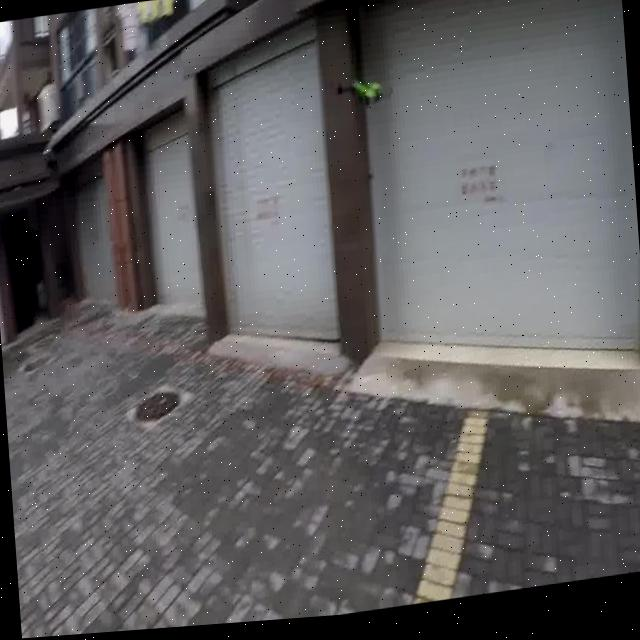drone: (333, 64, 394, 117)
